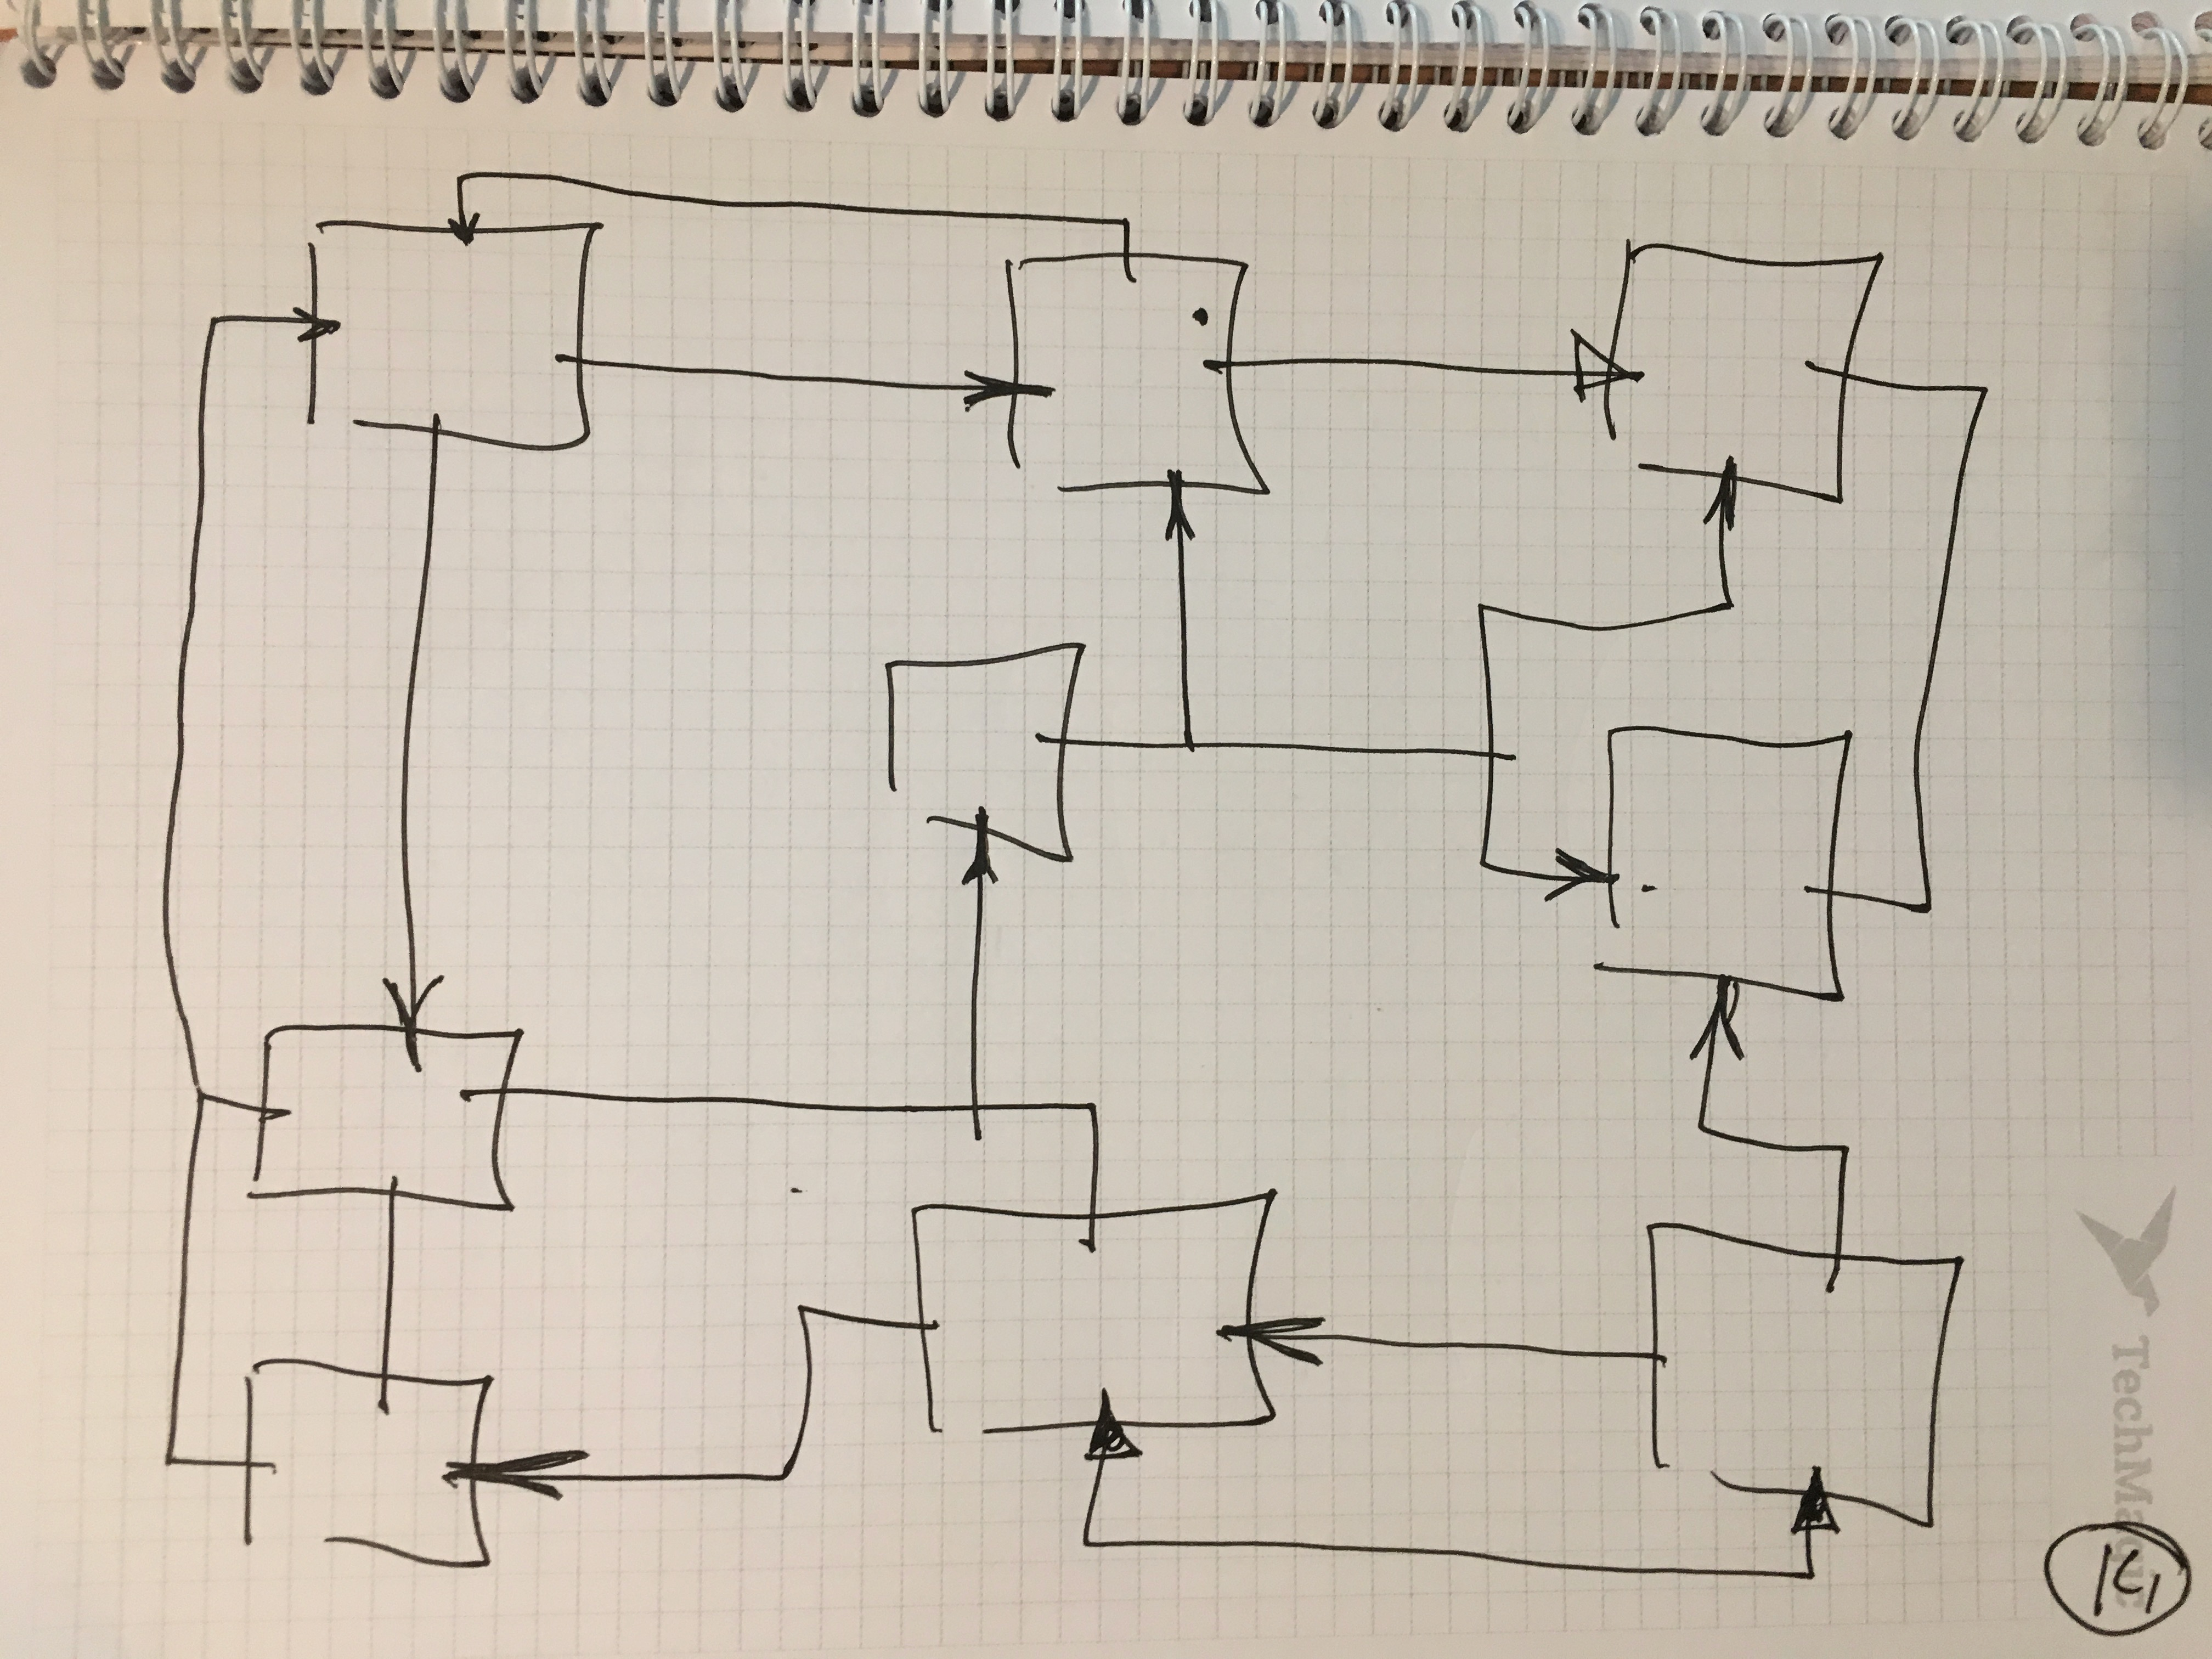arrow: (432, 1431, 672, 1511), (1204, 1300, 1397, 1380), (1529, 326, 1662, 410), (378, 917, 442, 1086), (1078, 1375, 1146, 1527), (1534, 831, 1644, 918), (1677, 962, 1749, 1084), (944, 366, 1066, 429), (951, 807, 1021, 913), (1146, 458, 1212, 570), (1789, 1460, 1851, 1567), (1695, 453, 1749, 563), (246, 298, 343, 345), (441, 193, 493, 251)
